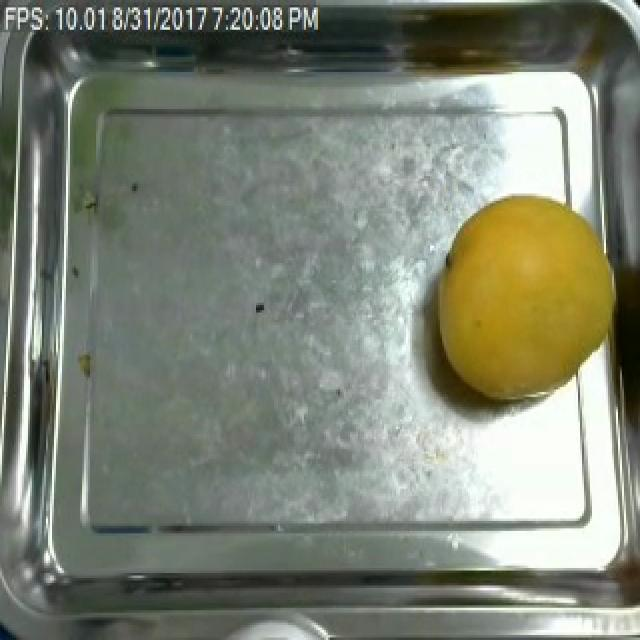fruit: (424, 189, 628, 414)
